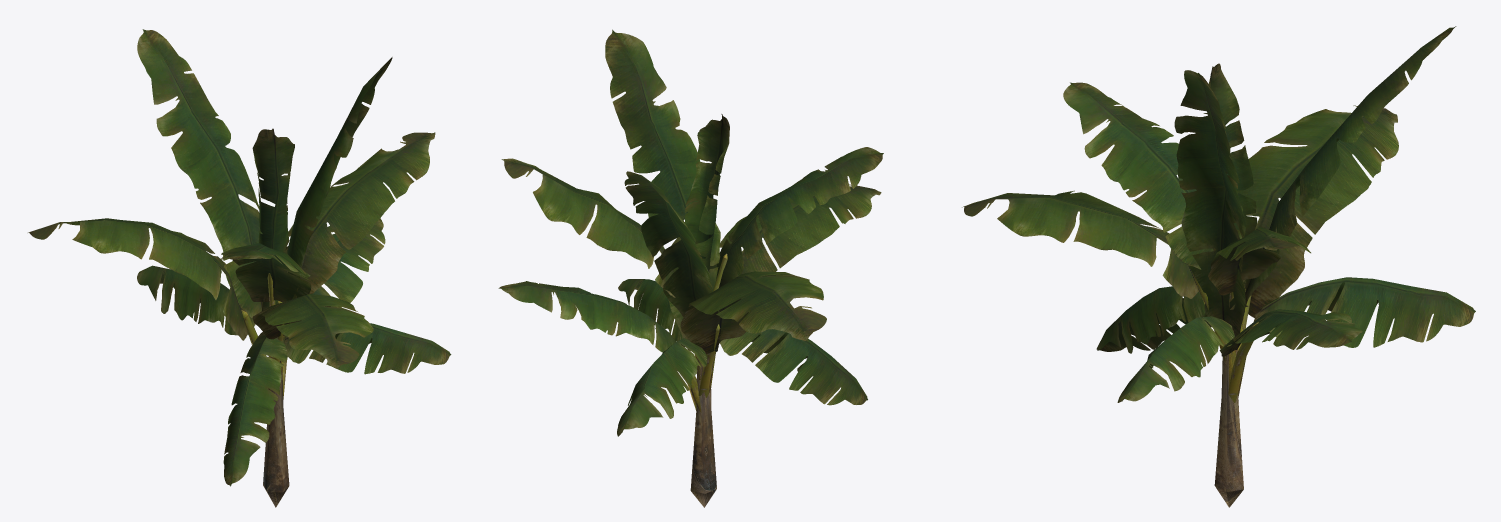
Rendered from bananaTree.obj.
3 renders of one model, left to right at view 1: azimuth 30°, elevation 25°; view 2: azimuth 150°, elevation 25°; view 3: azimuth 270°, elevation 25°, orthographic. The views are drawn at different scales.
Visible parts, largest first — view 1: Bananatree_, Bananatree_01, Bananatree_02; view 2: Bananatree_, Bananatree_01, Bananatree_02; view 3: Bananatree_, Bananatree_01, Bananatree_02.
Boxes of the visible parts, x1=… form: Bananatree_: x1=28, y1=29, x2=451, y2=486; Bananatree_01: x1=263, y1=356, x2=289, y2=507; Bananatree_02: x1=241, y1=273, x2=287, y2=410; Bananatree_: x1=498, y1=29, x2=883, y2=436; Bananatree_01: x1=690, y1=358, x2=716, y2=507; Bananatree_02: x1=687, y1=253, x2=727, y2=412; Bananatree_: x1=962, y1=26, x2=1475, y2=402; Bananatree_01: x1=1214, y1=344, x2=1243, y2=507; Bananatree_02: x1=1192, y1=248, x2=1258, y2=402.
Size of the model in its own units: 562 by 602 by 586.
3 materials, 3 textured.
